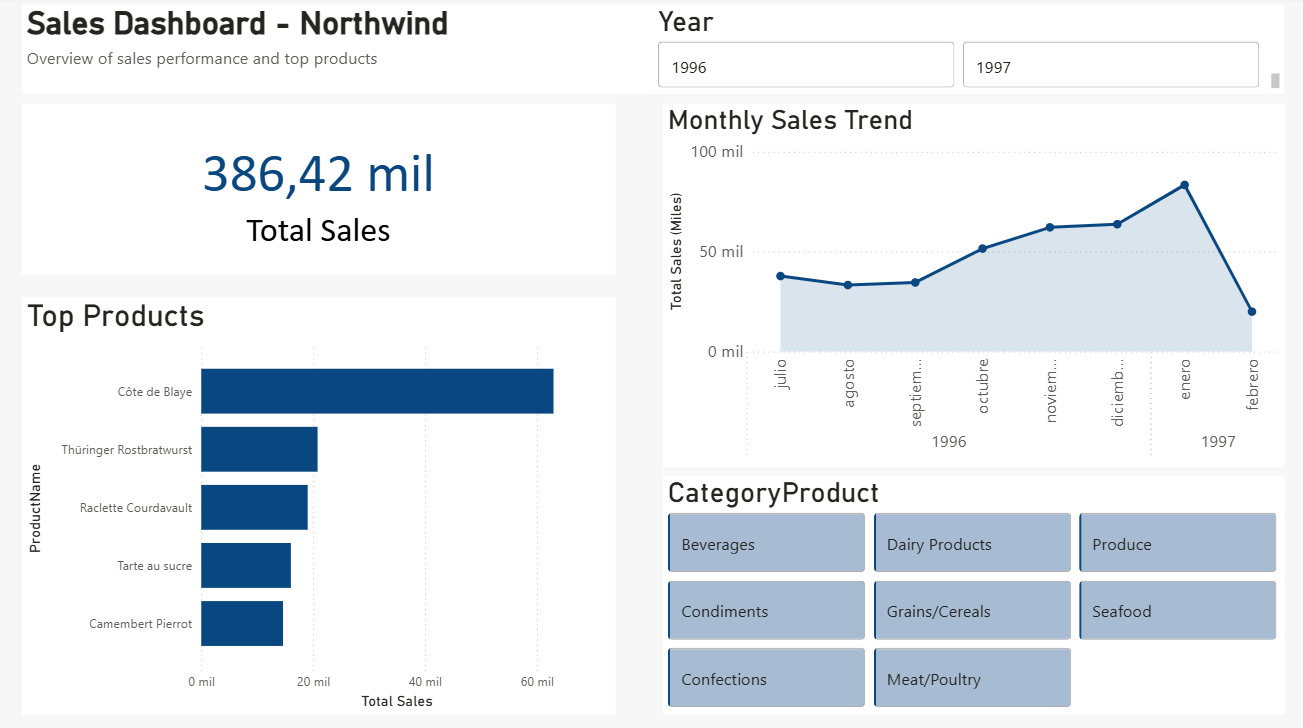

The dashboard page shown, as its layout file describes it:
{"tool":"powerbi","page":{"name":"Sales Dashboard - Northwind","canvas":[1280,720],"ordinal":0},"visuals":[{"type":"card","fields":{"Values":["Customers.Total Sales"]},"box":[23.2,105.2,580.8,167.5],"z":0},{"type":"lineChart","title":"Monthly Sales Trend","fields":{"Category":["Orders.OrderDate.Variación.Jerarquía de fechas.Año","Orders.OrderDate.Variación.Jerarquía de fechas.Mes"],"Y":["Customers.Total Sales"]},"box":[650.5,105.2,607.7,355.8],"z":1000},{"type":"barChart","title":"Top Products","fields":{"Y":["Customers.Total Sales"],"Category":["Products.ProductName"]},"box":[23.2,294.7,580.8,408.4],"z":2000},{"type":"textbox","title":"Sales Dashboard - Northwind","box":[23.2,8.6,1235.1,86.8],"z":3000},{"type":"advancedSlicerVisual","title":"Year","fields":{"Values":["Orders.OrderDate.Variación.Jerarquía de fechas.Año"]},"box":[640.8,8.6,599.2,86.8],"z":4000},{"type":"advancedSlicerVisual","title":"CategoryProduct","fields":{"Values":["Categories.CategoryName"]},"box":[650.5,469.6,607.7,233.6],"z":4001}]}

Visuals, with their boxes in screenshot pixels (x1, y1, x2, y2), scaled from the page's 1280x720 canvas onto the 1303x728 screenshot:
card - Customers.Total Sales: [left=24, top=106, right=615, bottom=276]
"Monthly Sales Trend" lineChart: [left=662, top=106, right=1281, bottom=466]
"Top Products" barChart: [left=24, top=298, right=615, bottom=711]
"Sales Dashboard - Northwind" textbox: [left=24, top=9, right=1281, bottom=96]
"Year" advancedSlicerVisual: [left=652, top=9, right=1262, bottom=96]
"CategoryProduct" advancedSlicerVisual: [left=662, top=475, right=1281, bottom=711]
